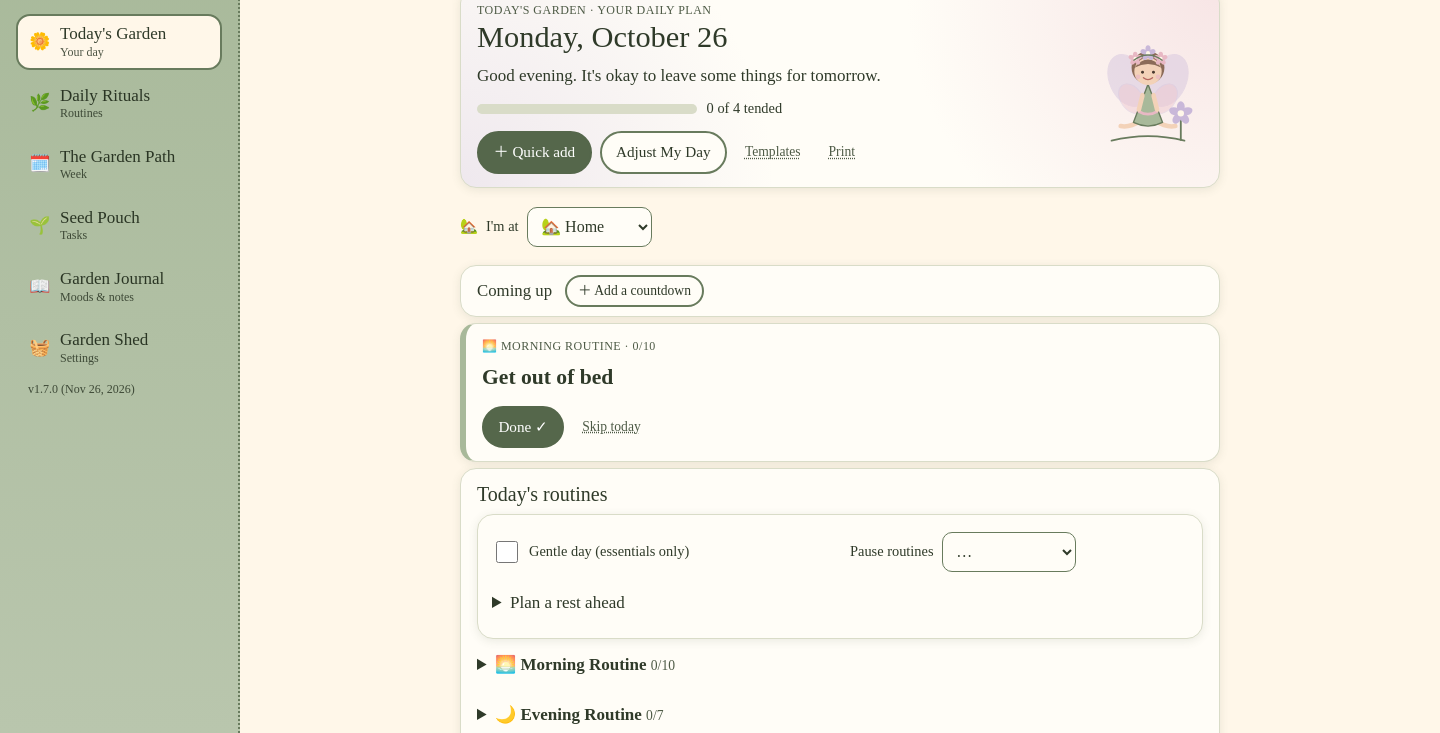
Test: new screens › starts a routine from a ready-made one
This screenshot has width=1440, height=733.
Click the button "🌿 Daily Rituals Routines".
click(119, 103)  # box [16,75,222,131]
(page scrolled)
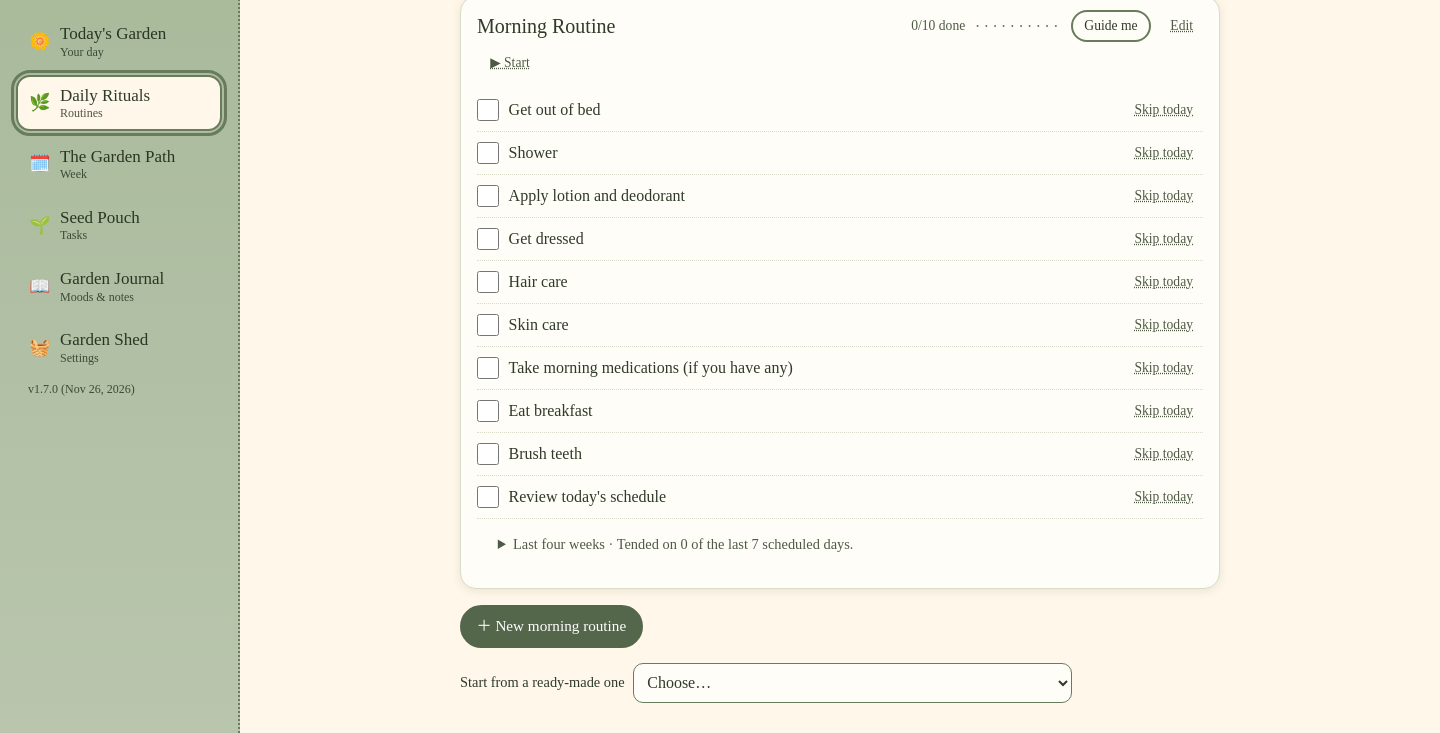
Select "🛏️ Bedtime — Last things before sleep." in the dropdown named "Start from a ready-made routine" at (852, 683), box [633,663,1072,703]
(page scrolled)
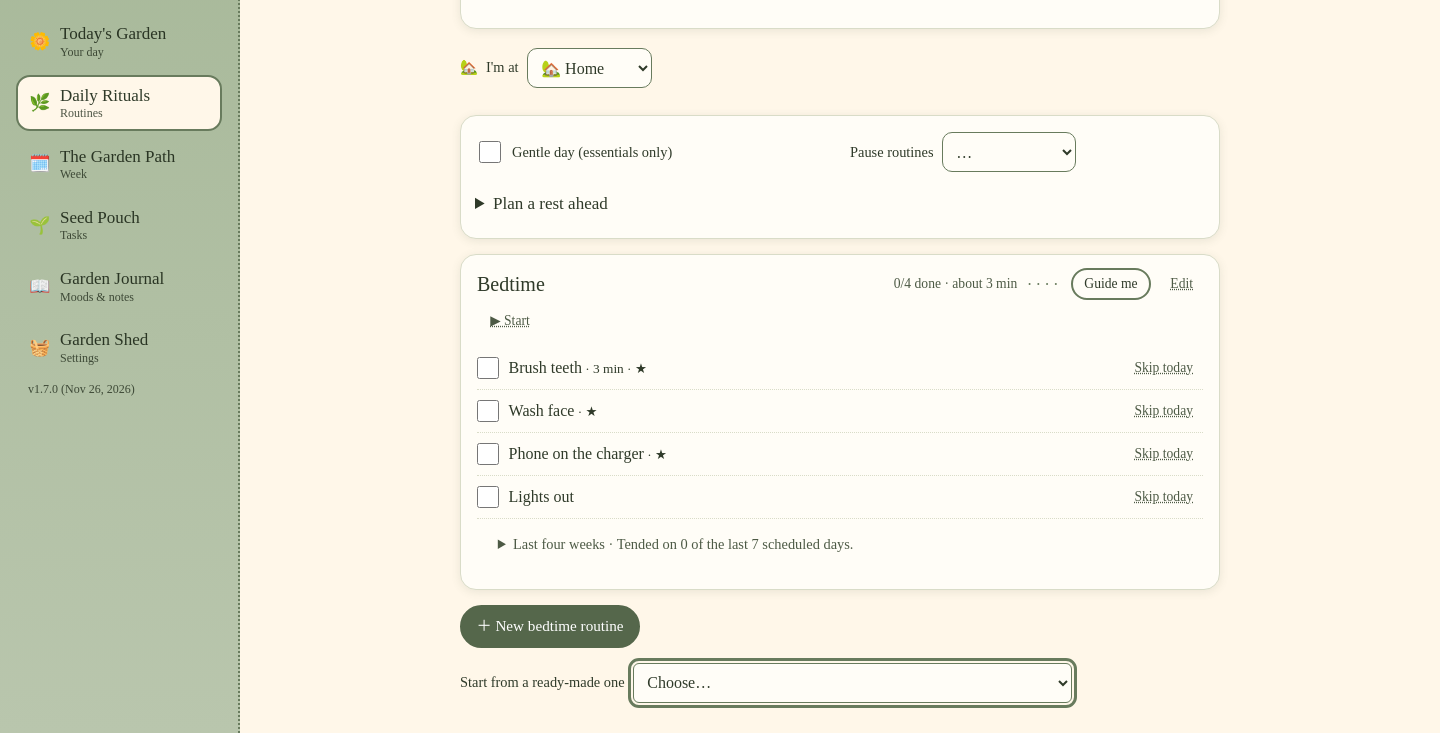
Expected: the element "Bedtime" is shown, [460,254,1220,590]
